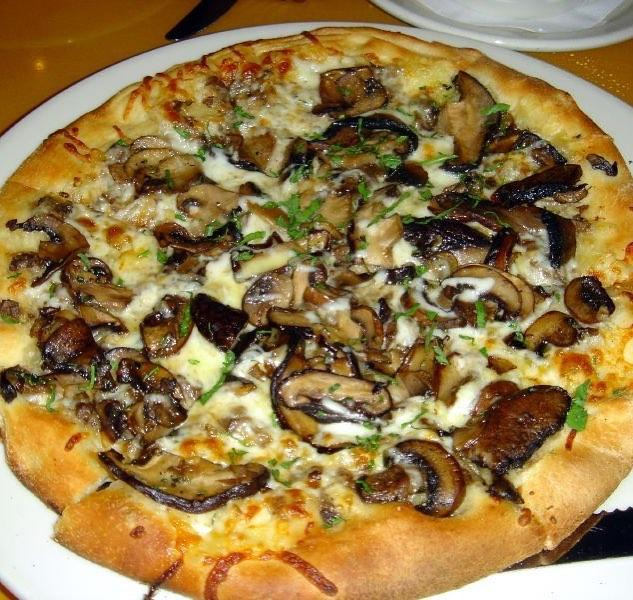Mushroom: (356, 389, 570, 509), (284, 332, 463, 439), (26, 216, 111, 378), (99, 447, 270, 514), (498, 131, 581, 264), (87, 348, 192, 448), (291, 190, 405, 270), (423, 251, 532, 323), (517, 276, 619, 351), (289, 118, 414, 177), (228, 268, 318, 333), (108, 137, 201, 193), (448, 71, 499, 165), (318, 66, 389, 114), (176, 185, 240, 225)
Pizza: (2, 48, 633, 571)
